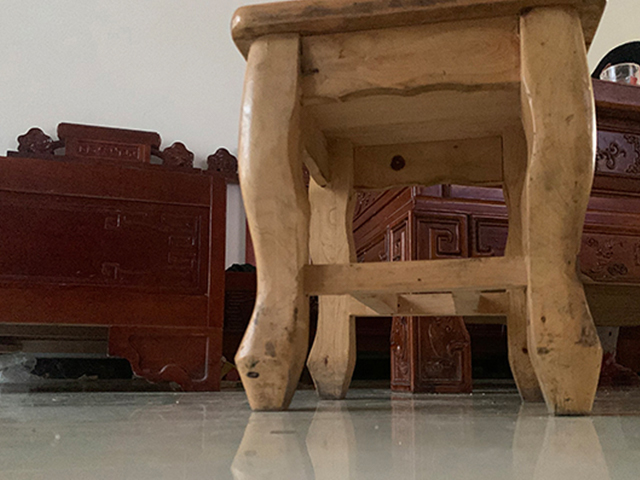sofa: (1, 122, 240, 394)
stool: (229, 1, 610, 415)
